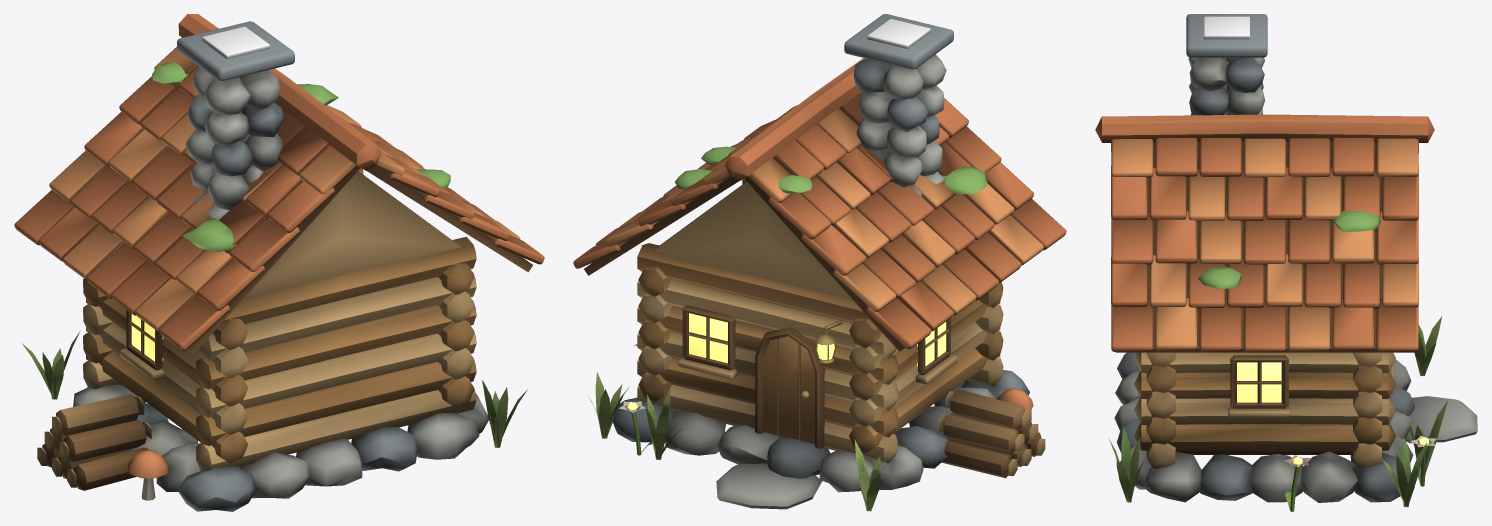
The model's file is EDV2_Cabin.fbx.
The picture shows the model from 3 angles, left to right: view 1: azimuth 30°, elevation 25°; view 2: azimuth 150°, elevation 25°; view 3: azimuth 270°, elevation 25°; orthographic projection. The views are drawn at different scales.
Parts seen in each view (by area): view 1: Body.003, Roof, Foundation, Chimney, Woodpile, Growth, Moss.004, Door, WindowGlow; view 2: Roof, Body.003, Chimney, Foundation, Door, Woodpile, Growth, Path.001, Moss.004, WindowGlow; view 3: Roof, Body.003, Foundation, Chimney, Growth, Door, Path.001, WindowGlow, Moss.004.
Part boxes in pixels (<box>): Body.003: <box>83,168,476,470</box>; Roof: <box>14,14,544,353</box>; Foundation: <box>73,384,488,511</box>; Chimney: <box>177,21,294,218</box>; Woodpile: <box>37,394,151,490</box>; Growth: <box>22,331,527,500</box>; Moss.004: <box>152,62,450,251</box>; Door: <box>120,310,164,379</box>; WindowGlow: <box>131,314,163,361</box>; Roof: <box>573,58,1066,351</box>; Body.003: <box>637,178,1003,463</box>; Chimney: <box>844,14,953,196</box>; Foundation: <box>613,370,1029,492</box>; Door: <box>677,305,957,448</box>; Woodpile: <box>939,389,1045,478</box>; Growth: <box>589,344,1033,511</box>; Path.001: <box>716,463,822,509</box>; Moss.004: <box>675,146,987,194</box>; WindowGlow: <box>689,313,946,366</box>; Roof: <box>1095,114,1434,352</box>; Body.003: <box>1134,352,1396,468</box>; Foundation: <box>1114,352,1414,502</box>; Chimney: <box>1186,14,1267,115</box>; Growth: <box>1109,316,1448,511</box>; Door: <box>1228,355,1393,417</box>; Path.001: <box>1405,396,1477,443</box>; WindowGlow: <box>1237,362,1281,402</box>; Moss.004: <box>1198,210,1381,289</box>.
Bounding box in the file's own units: 1.58 × 1.56 × 1.41.
